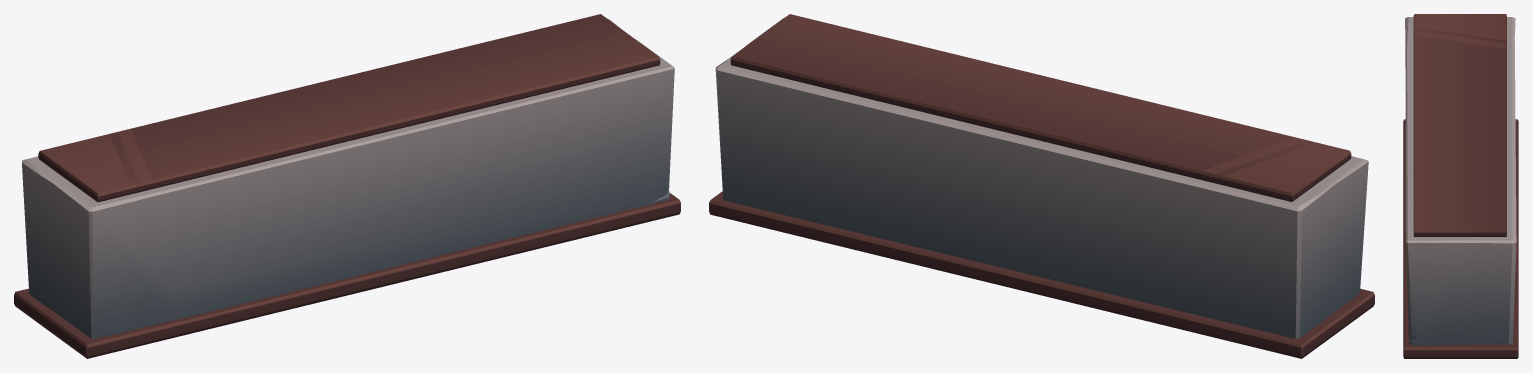
File: DisplayCase_High_1x4_Classic_A.fbx
3 renders of one model, left to right at view 1: azimuth 30°, elevation 25°; view 2: azimuth 150°, elevation 25°; view 3: azimuth 270°, elevation 25°, orthographic. The views are drawn at different scales.
Visible parts, largest first — view 1: DisplayCase_High_1x4_Classic_A; view 2: DisplayCase_High_1x4_Classic_A; view 3: DisplayCase_High_1x4_Classic_A.
Part boxes in pixels (left/top/right/bottom): DisplayCase_High_1x4_Classic_A: left=14, top=14, right=680, bottom=358; DisplayCase_High_1x4_Classic_A: left=709, top=14, right=1374, bottom=358; DisplayCase_High_1x4_Classic_A: left=1403, top=14, right=1518, bottom=358.
Size of the model in its own units: 3.89 by 0.978 by 0.8295.
